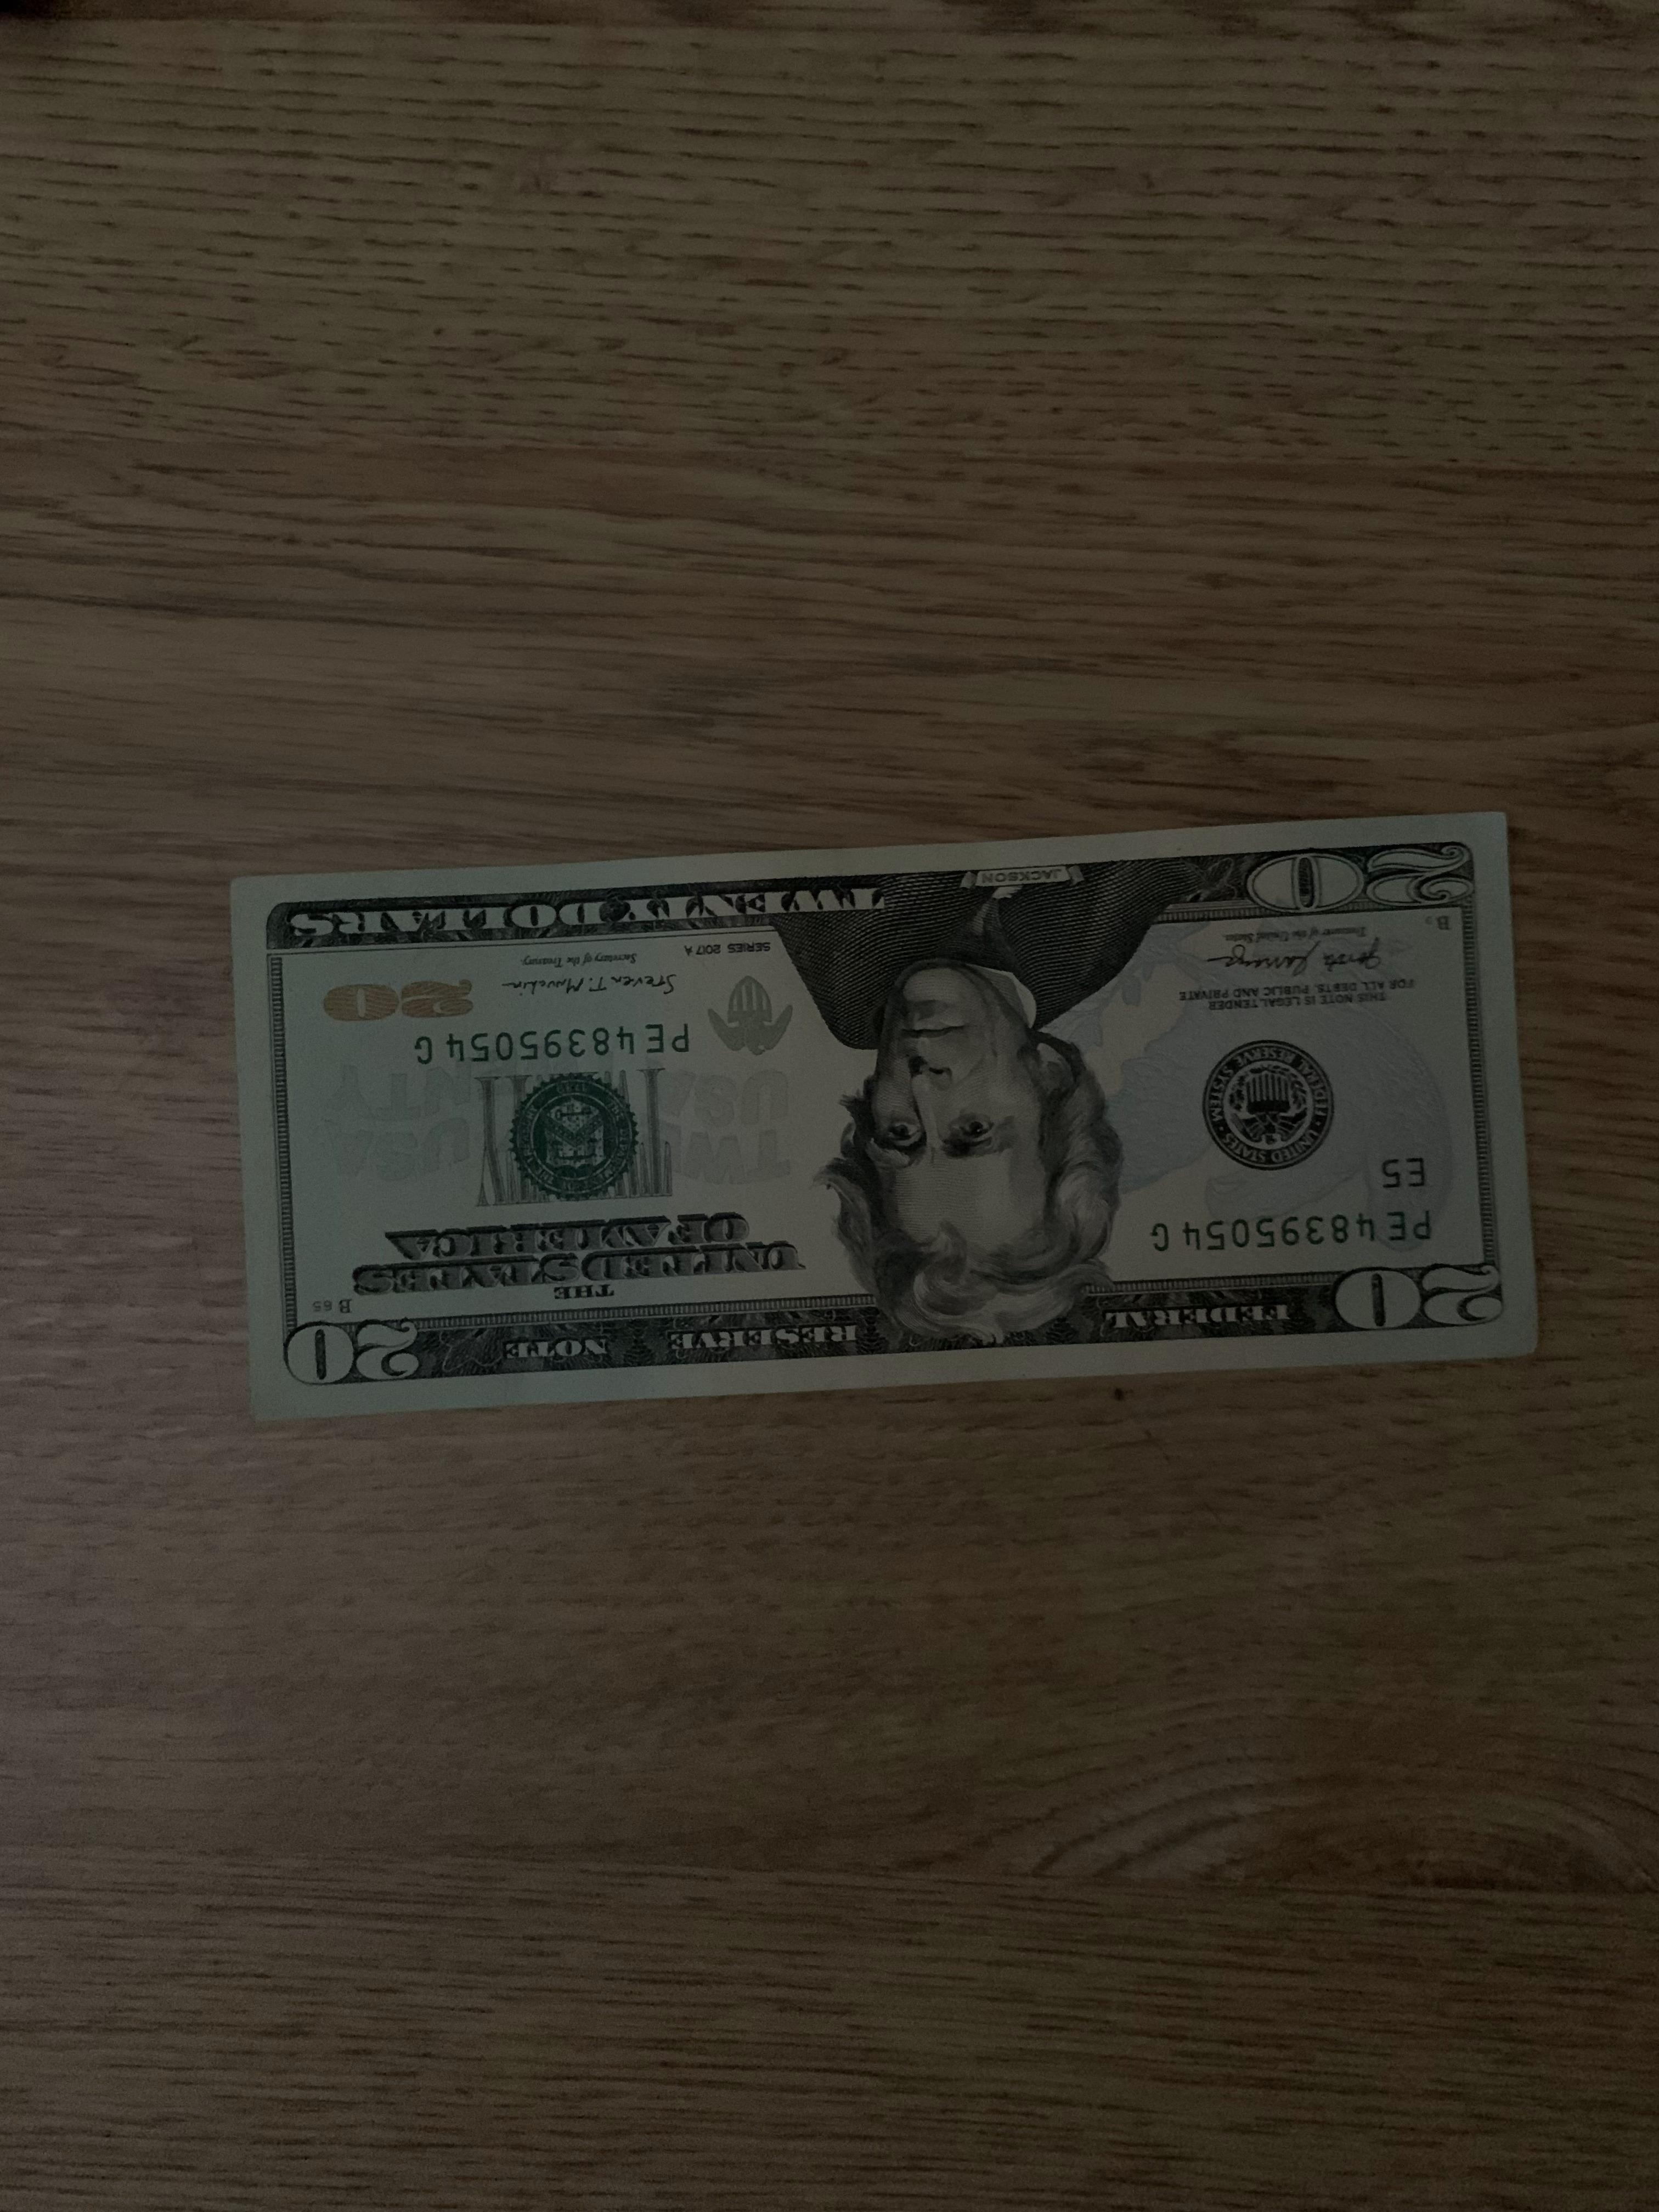TwentyBill: (232, 798, 1514, 1446)
